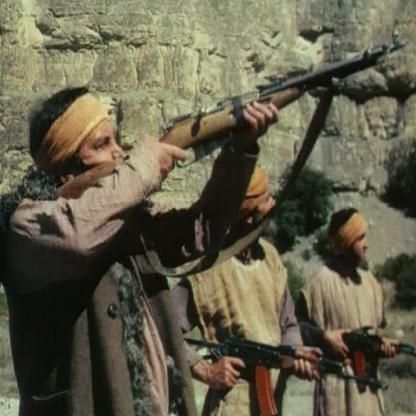gun: (81, 31, 405, 237)
